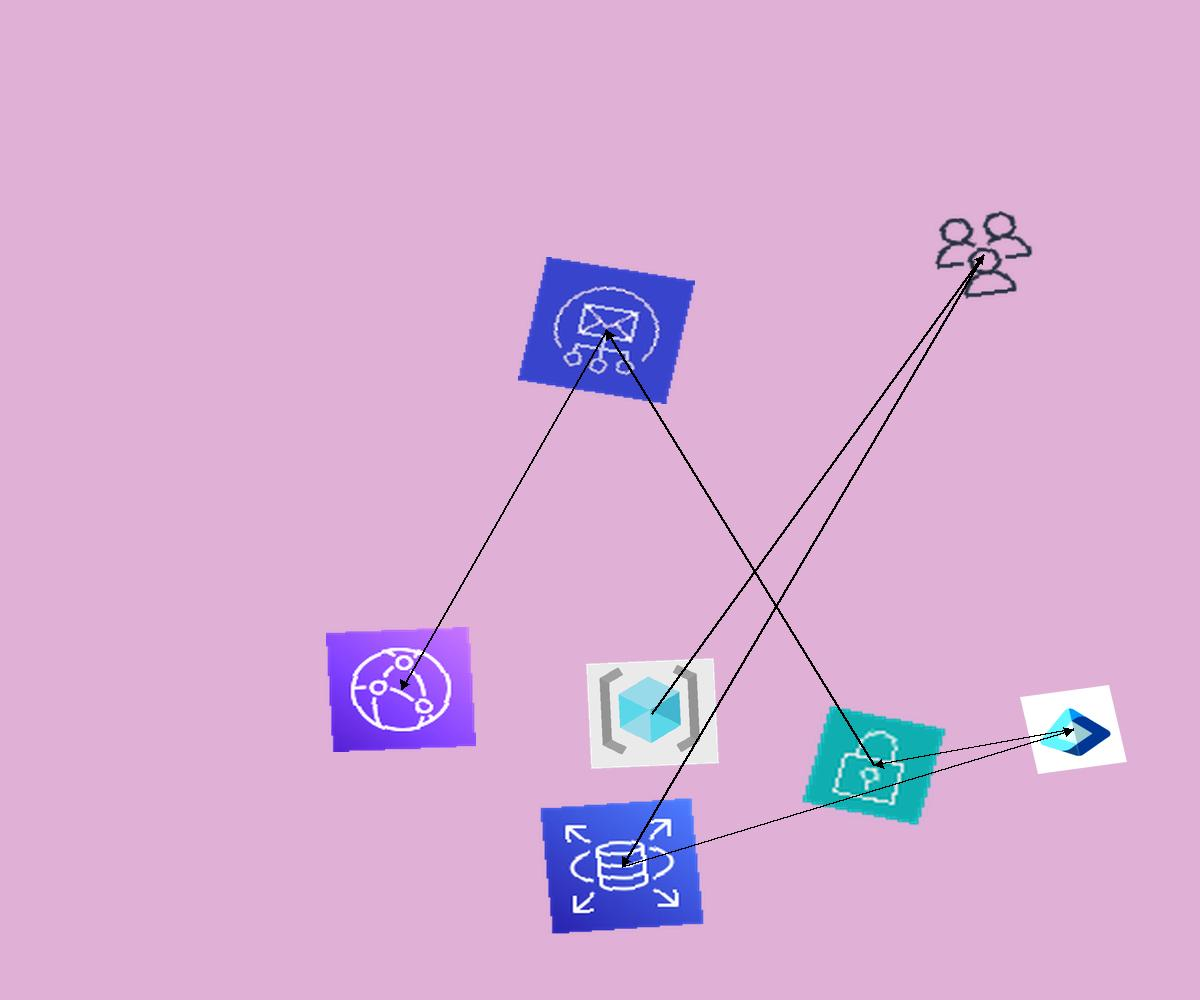AWS-CloudFront: (326, 627, 476, 752)
AWS-Private-subnet: (800, 704, 948, 827)
AWS-RDS: (539, 797, 705, 935)
AWS-Res_Users: (922, 204, 1045, 306)
AWS-Simple-Email-Service: (518, 257, 695, 404)
Azure_microsoft_entra: (1020, 685, 1127, 774)
Azure_resource_group: (586, 658, 719, 769)
